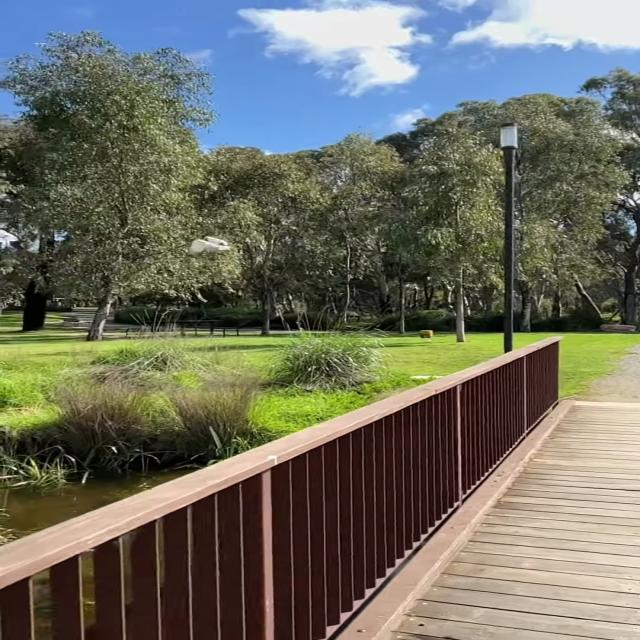Birds-Ibis: (186, 234, 234, 256), (0, 228, 20, 250)
